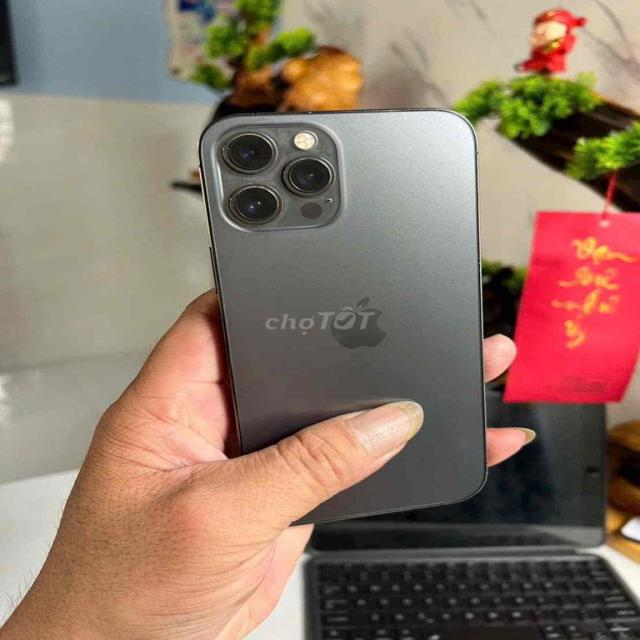gen_12_13: (188, 97, 498, 524)
